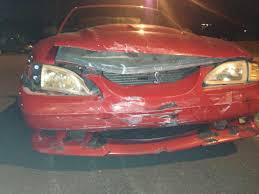bonnet-dent: (56, 19, 216, 71)
front-bumper-dent: (48, 84, 234, 151)
